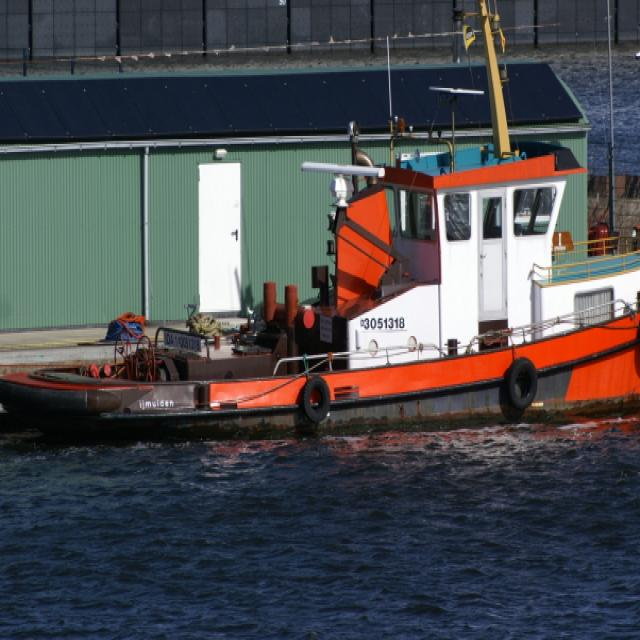tugboat: (1, 126, 640, 462)
